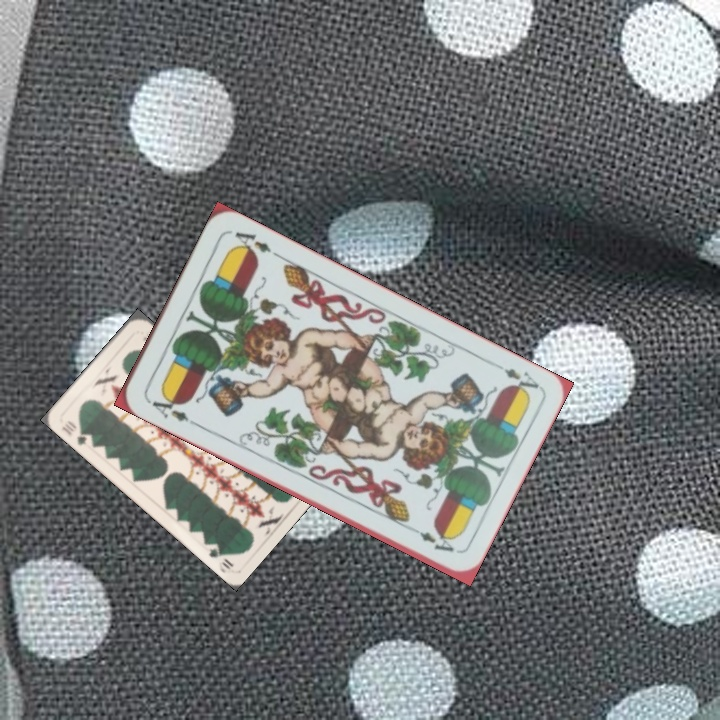EA: (488, 358, 542, 398), (143, 389, 198, 428)
G10: (58, 416, 95, 448)
